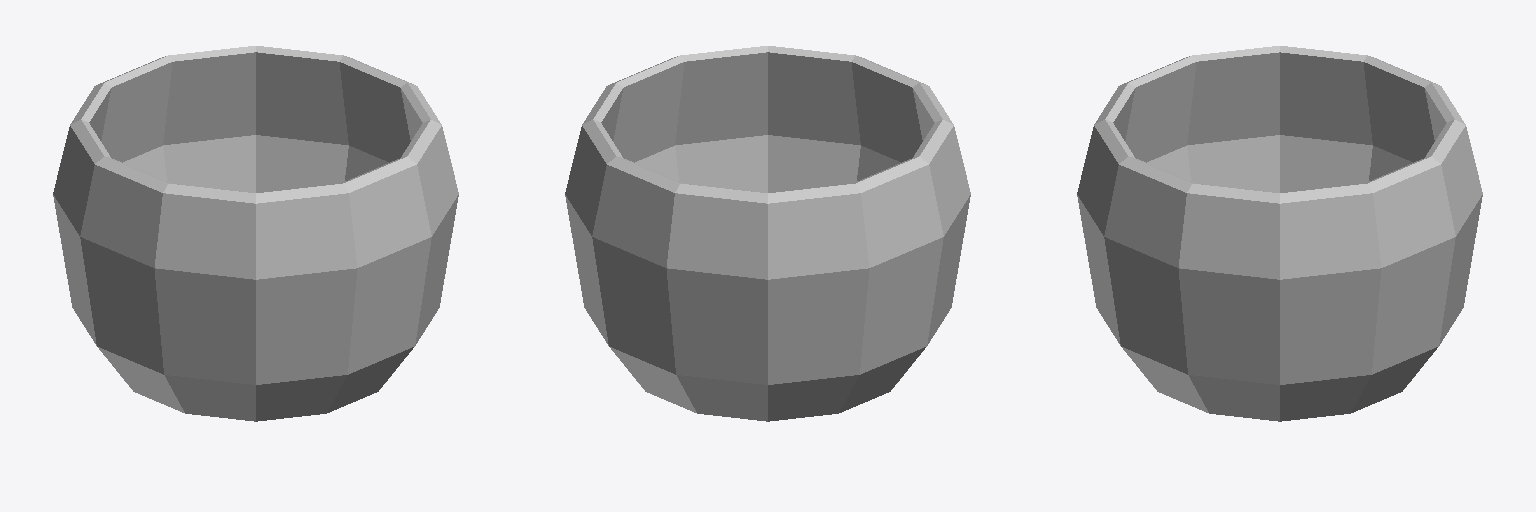
The model's file is Pot04.obj.
3 views of the same model, side by side, from view 1: azimuth 30°, elevation 25°; view 2: azimuth 150°, elevation 25°; view 3: azimuth 270°, elevation 25° (orthographic).
Visible parts, largest first — view 1: Sphere002; view 2: Sphere002; view 3: Sphere002.
Part boxes in pixels (x1,y1,x2,y2): Sphere002: (53, 46, 458, 421); Sphere002: (565, 46, 970, 421); Sphere002: (1077, 46, 1482, 421).
Bounding box in the file's own units: 1.48 × 1.1 × 1.48.